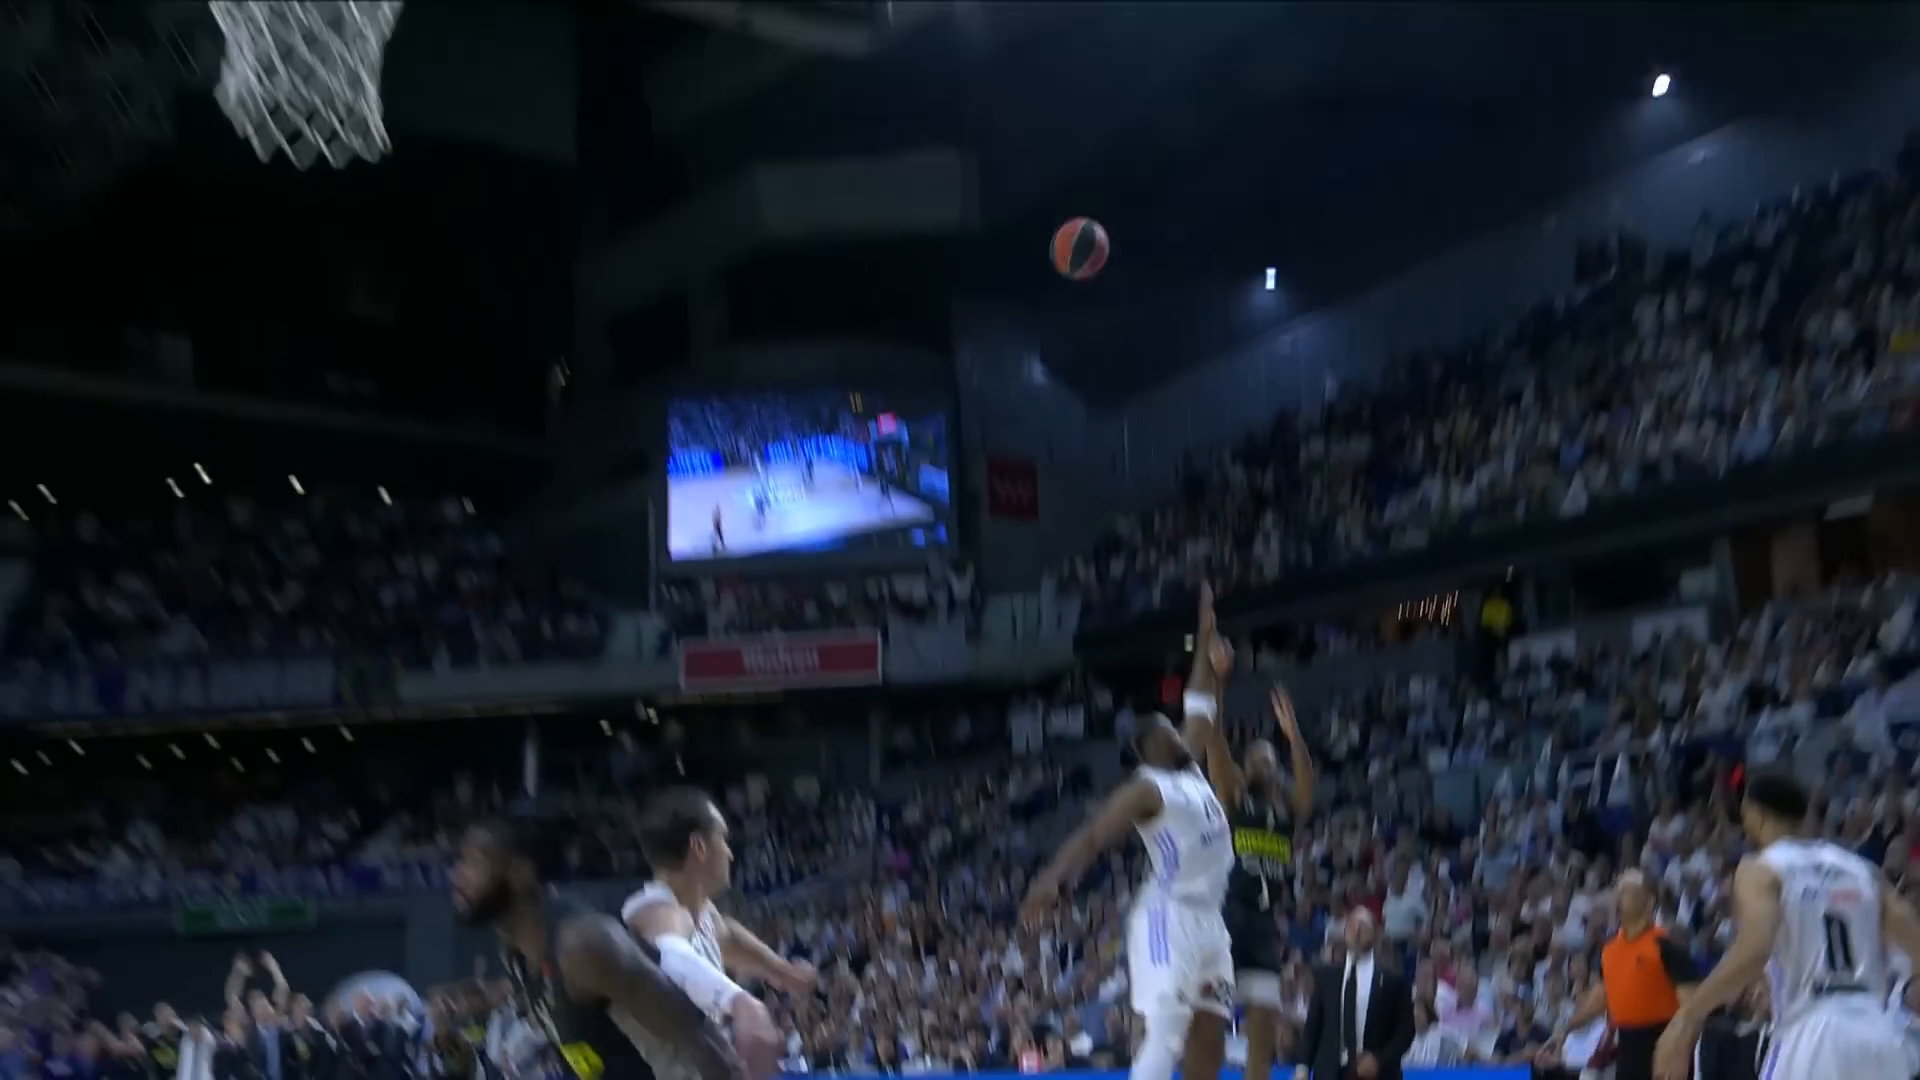ball: (1040, 212, 1116, 281)
net: (200, 1, 409, 175)
